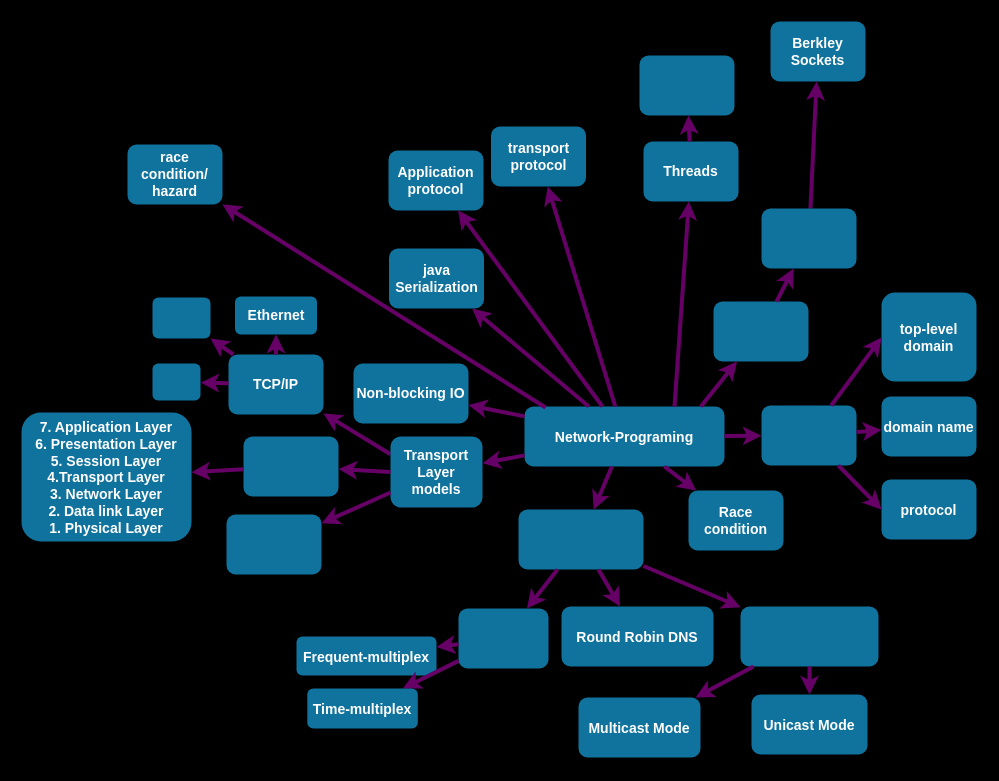
Some shapes in this 999 by 781 pixel diagram are drawn without their labels. Each missing label, with the centre of its shape:
by the book: point 274,545
deadlock: point 687,86
IPv6: point 182,319
Load Balancer: point 581,540
Microsoft NLB: point 810,637
Mulitplex: point 504,639
OSI: point 291,467
REST API: point 809,239
Sockets: point 761,332
TCP: point 177,383
url: point 809,436
